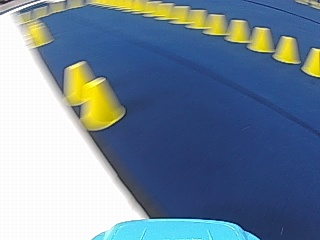cone: (80, 76, 126, 130), (71, 66, 117, 120), (63, 61, 99, 106), (273, 35, 301, 64), (248, 26, 274, 53), (226, 19, 250, 44), (300, 48, 320, 77), (205, 15, 227, 35), (188, 10, 207, 29)
